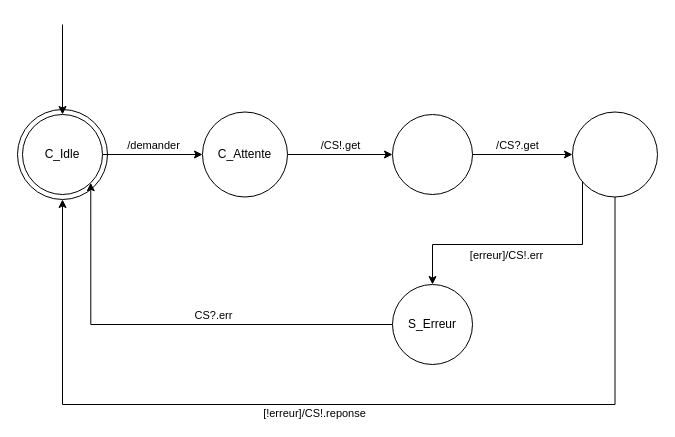
Image size: 675x437. Some labels were removed from this diagram. Each missing label, with the box of its shape:
S_Idle: (392, 114, 472, 194)
S_Traitement: (572, 111, 658, 197)
